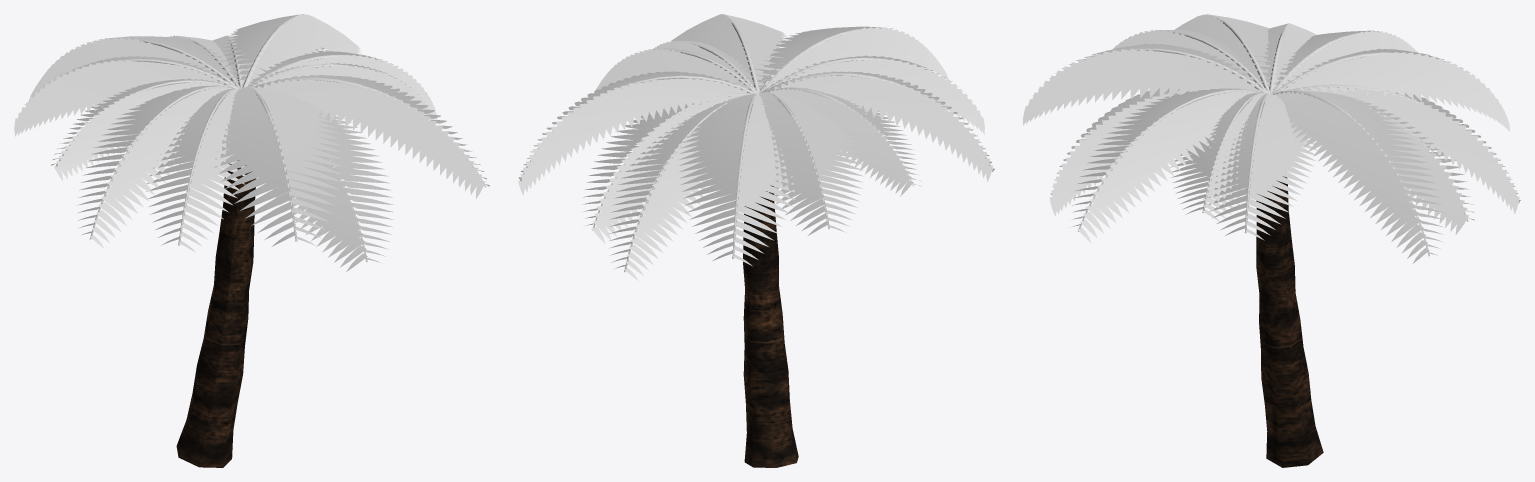
Rendered from Baumfarn_1.fbx.
The picture shows the model from 3 angles, left to right: view 1: azimuth 30°, elevation 25°; view 2: azimuth 150°, elevation 25°; view 3: azimuth 270°, elevation 25°; orthographic projection. The views are drawn at different scales.
Parts seen in each view (by area): view 1: Baumfarn_1; view 2: Baumfarn_1; view 3: Baumfarn_1.
Boxes of the visible parts, x1,y1,x2,y2 form: Baumfarn_1: (14,14,489,467); Baumfarn_1: (518,14,994,467); Baumfarn_1: (1023,14,1520,467).
Bounding box in the file's own units: 3.86 × 3.9 × 4.33.
